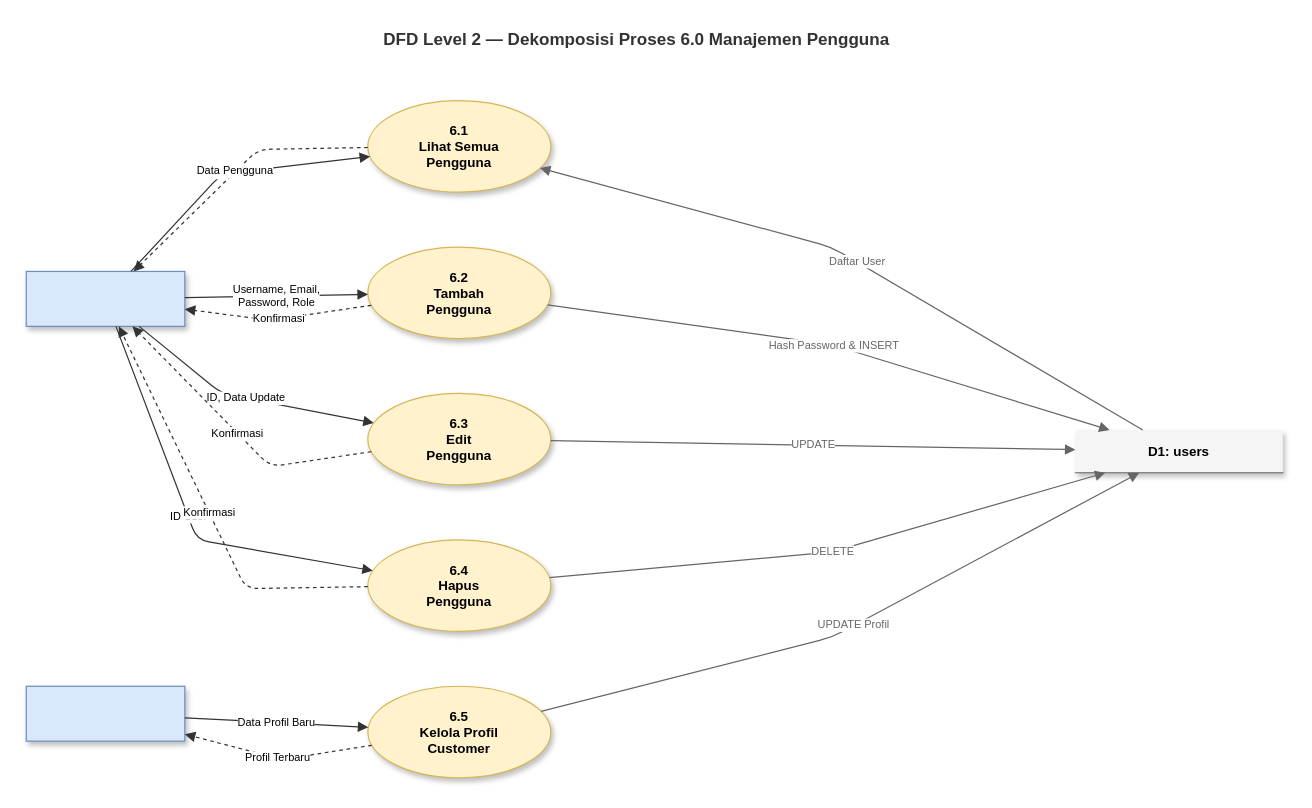
The diagram is 1312 pixels wide and 808 high, and some of its shapes have lost their labels. The centre of each missing label's shape, as x and y in pixels:
"Admin" belongs at [106,300].
"Customer" belongs at [106,715].
